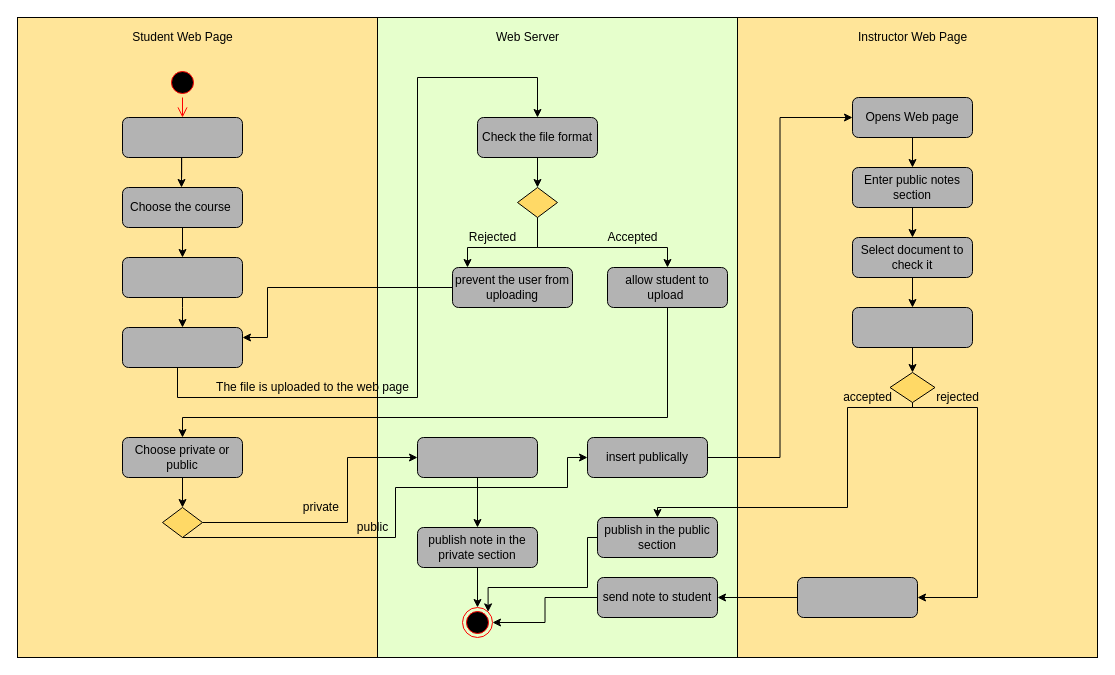
This 1115x675 diagram has some shape labels left out. The centre of each missing label's shape, as x and y in pixels:
Browse the computer for document: (x=182, y=347)
Choose the chapter: (x=182, y=277)
insert privately: (x=477, y=457)
Instructor submits note: (x=857, y=597)
Open notes web page: (x=182, y=137)
Read the document: (x=912, y=327)
